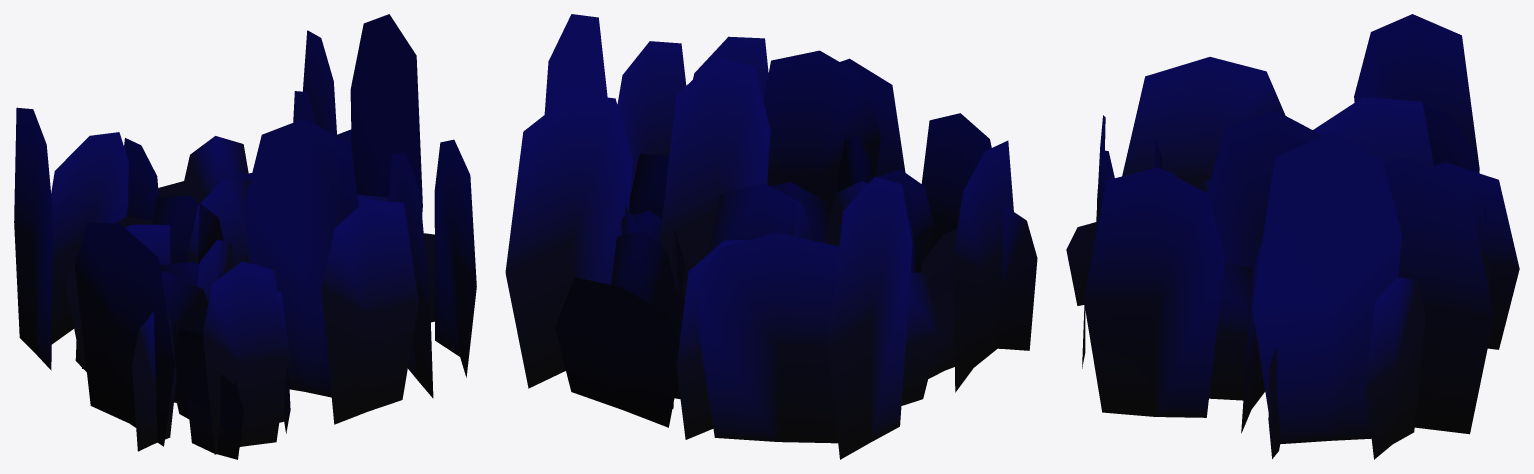
The model's file is SM_Grass_M_Patch_L_05.fbx.
The picture shows the model from 3 angles, left to right: view 1: azimuth 30°, elevation 25°; view 2: azimuth 150°, elevation 25°; view 3: azimuth 270°, elevation 25°; orthographic projection. The views are drawn at different scales.
Visible parts, largest first — view 1: SM_Grass_M_Patch_L_05; view 2: SM_Grass_M_Patch_L_05; view 3: SM_Grass_M_Patch_L_05.
Boxes of the visible parts, x1=… form: SM_Grass_M_Patch_L_05: x1=14, y1=14, x2=476, y2=459; SM_Grass_M_Patch_L_05: x1=505, y1=14, x2=1037, y2=459; SM_Grass_M_Patch_L_05: x1=1066, y1=14, x2=1519, y2=459.
Size of the model in its own units: 187 by 181 by 139.
